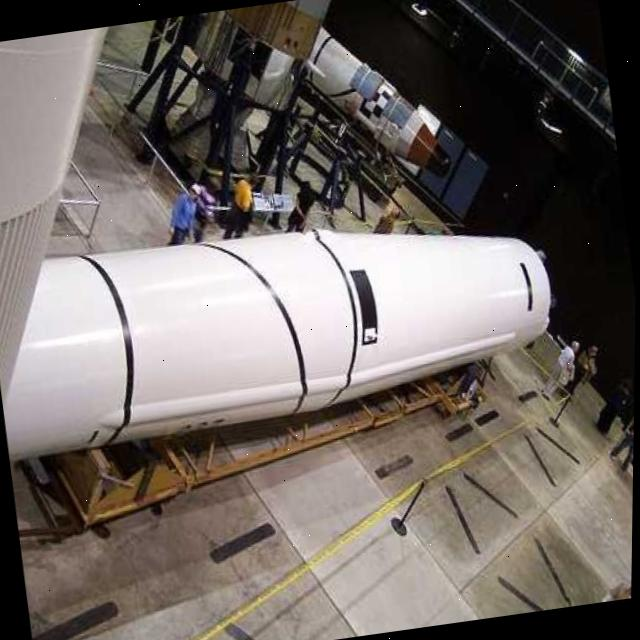missile: (0, 187, 569, 473)
